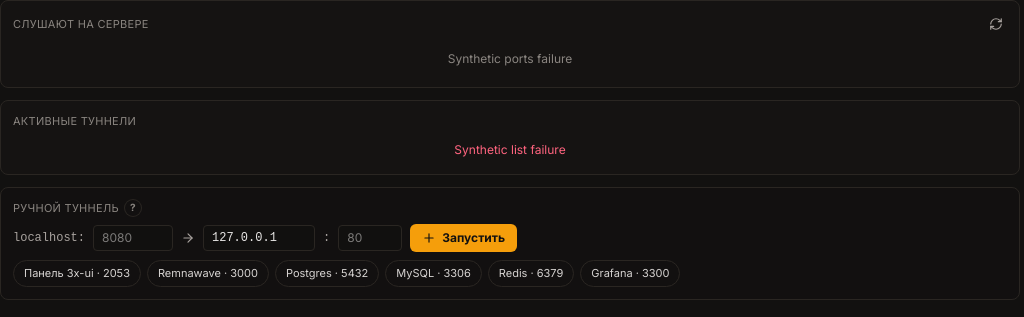
ForwardsPane IPC failures › shows initial list and port-scan errors instead of an empty success or endless scan
Expected: the text "Synthetic list failure" is shown, [454,142,566,156]
Expected: the text "Synthetic ports failure" is shown, [448,51,572,66]
Click the button named "Обновить" at (996, 24), box [985,13,1007,35]
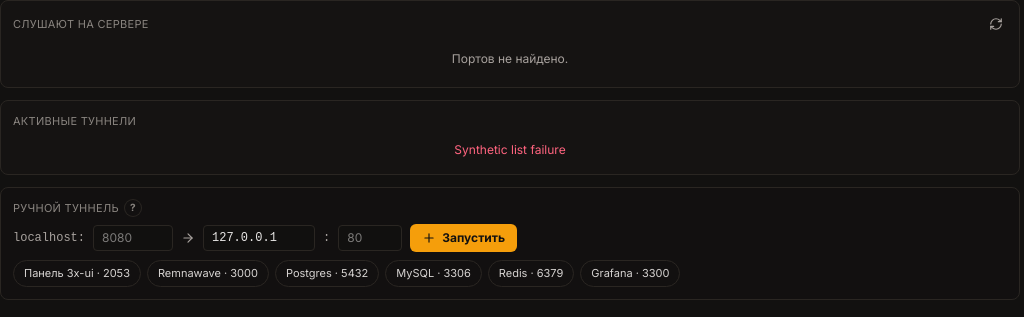
Expected: the text "Портов не найдено." is shown, [452,51,568,66]
